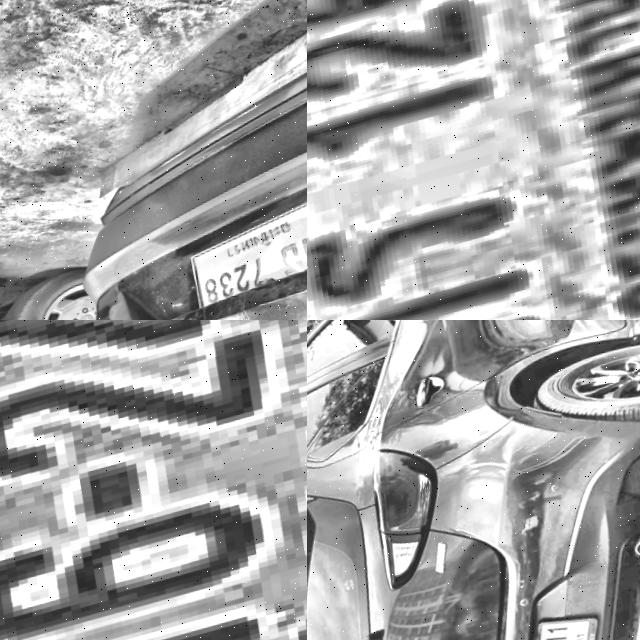license-plate: (307, 0, 640, 320), (0, 320, 307, 640), (253, 217, 307, 320), (511, 607, 616, 640)
